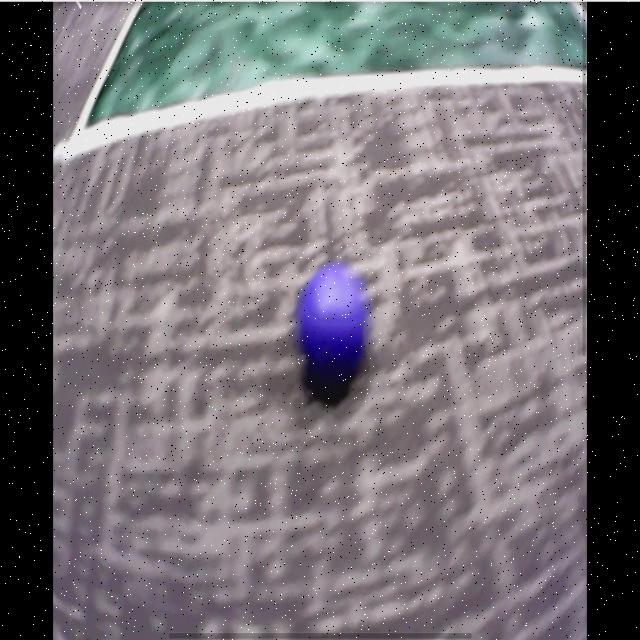ball: (304, 270, 365, 364)
